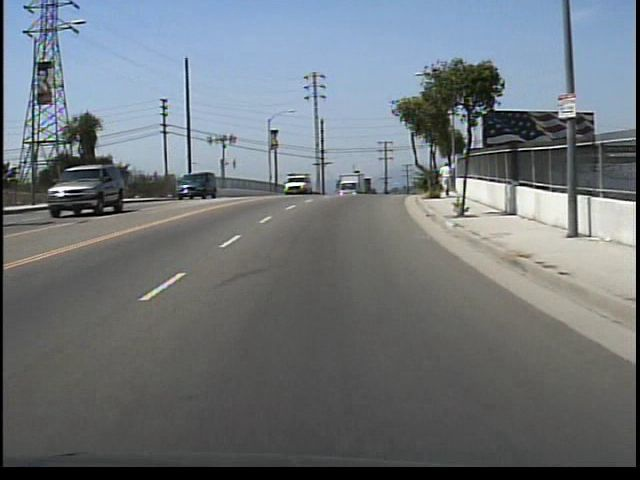person: (439, 159, 457, 199)
